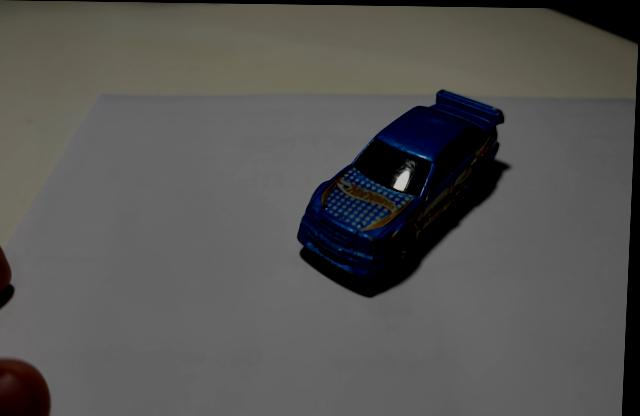04_MERZEDES: (297, 89, 508, 288)
